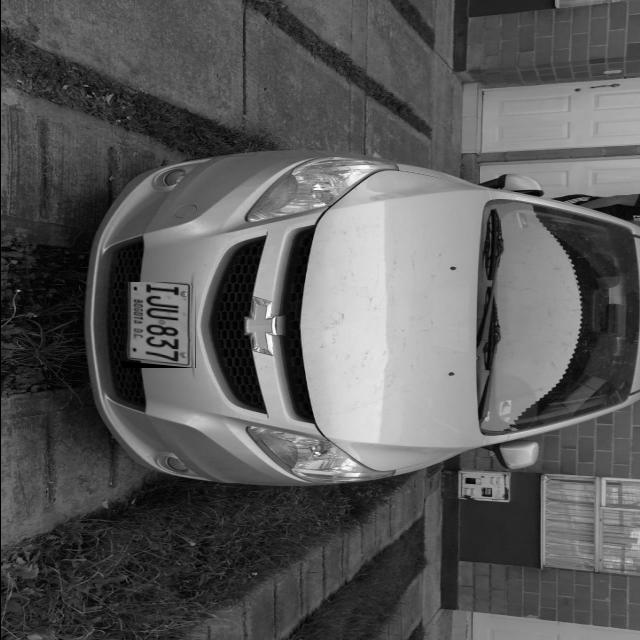plate: (121, 282, 195, 368)
